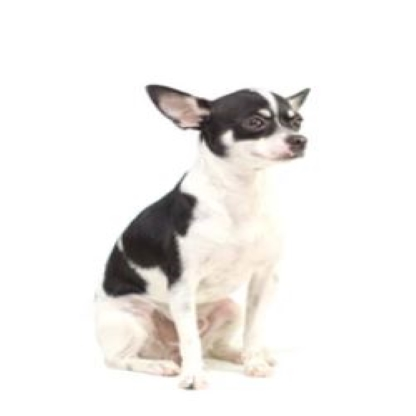chihuahua: (93, 81, 314, 392)
